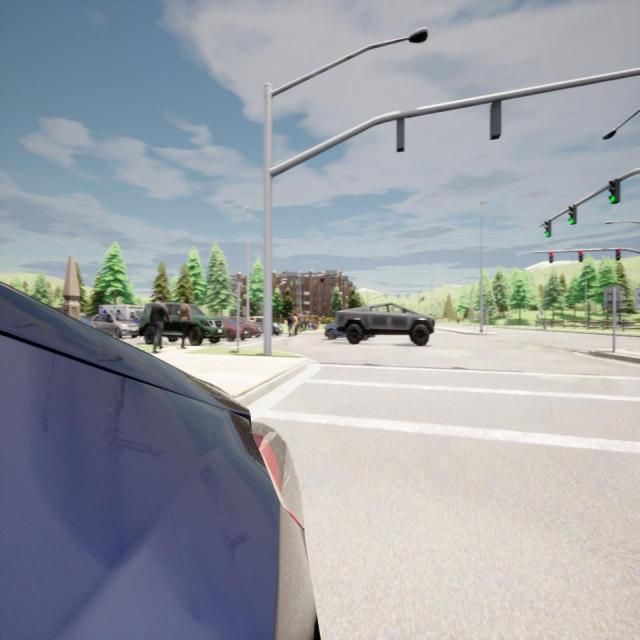Pedestrian: (150, 295, 170, 354), (180, 296, 190, 350), (293, 313, 299, 338), (288, 311, 293, 338)
Traffic_Signs: (604, 286, 620, 309), (634, 287, 640, 308)
Vehicle: (0, 283, 317, 638), (335, 301, 435, 346), (140, 301, 227, 345), (85, 313, 138, 337), (216, 316, 253, 341), (230, 316, 263, 338), (248, 317, 284, 335), (99, 306, 145, 319), (325, 321, 349, 342)
traffic_light: (490, 100, 501, 138), (397, 116, 405, 152), (608, 180, 620, 204), (568, 205, 577, 225), (545, 219, 551, 238), (616, 249, 621, 261), (549, 252, 553, 264), (579, 251, 583, 263)
